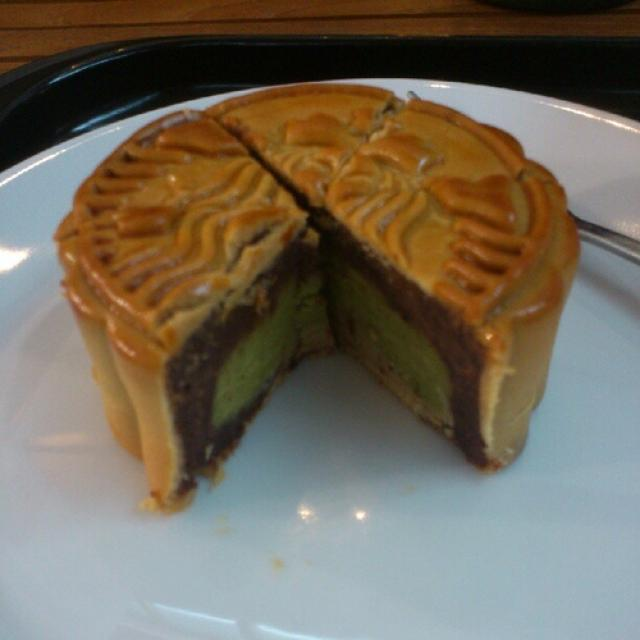蛋糕甜品: (51, 55, 592, 522)
